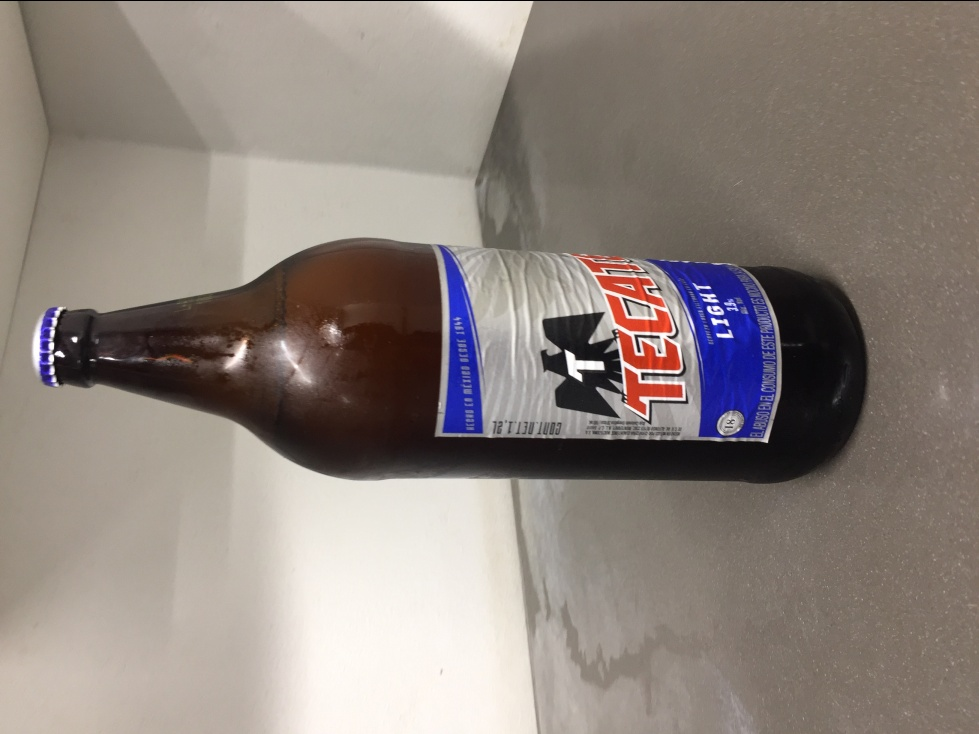tecateC: (36, 234, 869, 476)
